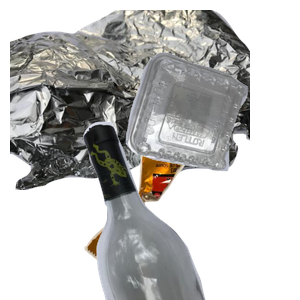glass: (81, 120, 300, 300)
metal: (10, 10, 250, 190)
plastic: (123, 50, 300, 214)
trash: (82, 151, 260, 300)
